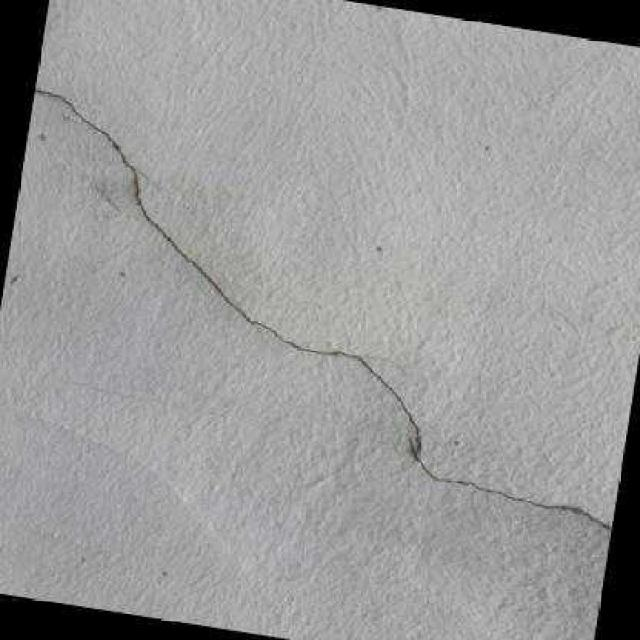D00: (33, 88, 419, 450), (413, 456, 608, 527)
